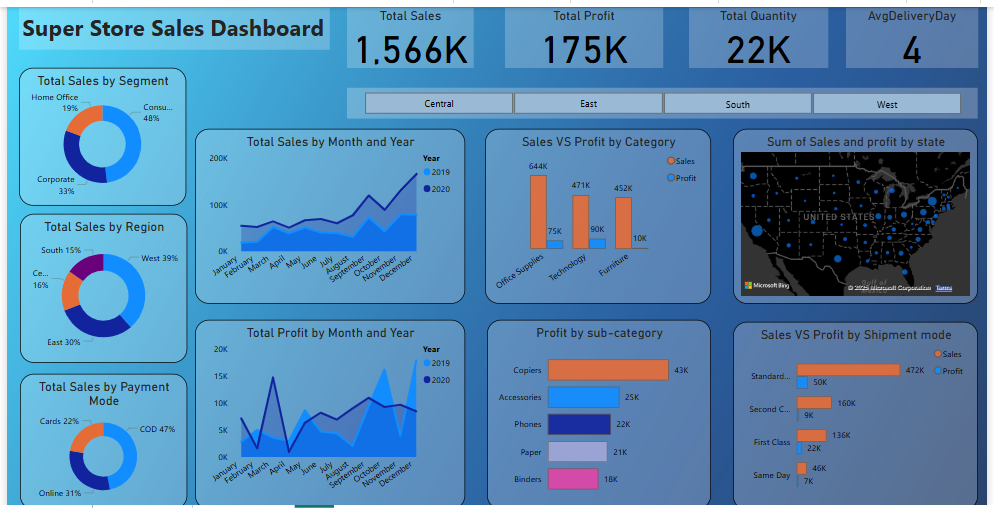

The dashboard page shown, as its layout file describes it:
{"tool":"powerbi","page":{"name":"Dashboard","canvas":[1400,735],"ordinal":0},"visuals":[{"type":"clusteredColumnChart","title":"Sales VS Profit by Category","fields":{"Category":["SuperStore_Sales_Dataset.Category"],"Y":["Sum(SuperStore_Sales_Dataset.Sales)","Sum(SuperStore_Sales_Dataset.Profit)"]},"box":[683.3,191.7,323.3,250],"z":0},{"type":"clusteredBarChart","title":"Profit by sub-category","fields":{"Category":["SuperStore_Sales_Dataset.Sub-Category"],"Y":["Sum(SuperStore_Sales_Dataset.Profit)"]},"box":[685.7,464.3,320,271.4],"z":1000},{"type":"clusteredBarChart","title":"Sales VS Profit by Shipment mode","fields":{"Category":["SuperStore_Sales_Dataset.Ship Mode"],"Y":["Sum(SuperStore_Sales_Dataset.Sales)","Sum(SuperStore_Sales_Dataset.Profit)"]},"box":[1037.1,467.1,350,268.6],"z":2000},{"type":"areaChart","title":"Total Sales by Month and Year","fields":{"Y":["Sum(SuperStore_Sales_Dataset.Sales)"],"Category":["SuperStore_Sales_Dataset.Order Date.Variation.Date Hierarchy.Month"],"Series":["SuperStore_Sales_Dataset.Order Date.Variation.Date Hierarchy.Year"]},"box":[268.6,191.4,385.7,250],"z":3000},{"type":"areaChart","title":"Total Profit by Month and Year","fields":{"Y":["Sum(SuperStore_Sales_Dataset.Profit)"],"Category":["SuperStore_Sales_Dataset.Order Date.Variation.Date Hierarchy.Month"],"Series":["SuperStore_Sales_Dataset.Order Date.Variation.Date Hierarchy.Year"]},"box":[268.6,464.3,385.7,271.4],"z":4000},{"type":"map","title":"Sum of Sales and profit by state","fields":{"Category":["SuperStore_Sales_Dataset.State"],"Size":["Sum(SuperStore_Sales_Dataset.Sales)"]},"box":[1037.1,191.4,350,250],"z":5000},{"type":"donutChart","title":"Total Sales by Payment Mode","fields":{"Category":["SuperStore_Sales_Dataset.Payment Mode"],"Y":["Sum(SuperStore_Sales_Dataset.Profit)"]},"box":[18.6,541.4,238.6,194.3],"z":6000},{"type":"donutChart","title":"Total Sales by Region","fields":{"Category":["SuperStore_Sales_Dataset.Region"],"Y":["Sum(SuperStore_Sales_Dataset.Profit)"]},"box":[18.6,312.9,238.6,212.9],"z":7000},{"type":"donutChart","title":"Total Sales by Segment","fields":{"Category":["SuperStore_Sales_Dataset.Segment"],"Y":["Sum(SuperStore_Sales_Dataset.Sales)"]},"box":[17.1,104.3,238.6,197.1],"z":8000},{"type":"card","title":"Total Sales","fields":{"Values":["Sum(SuperStore_Sales_Dataset.Sales)"]},"box":[485.7,18.6,181.4,85.7],"z":9000},{"type":"textbox","box":[17.1,18.6,444.3,60],"z":10000},{"type":"card","title":"Total Profit","fields":{"Values":["Sum(SuperStore_Sales_Dataset.Profit)"]},"box":[711.4,18.6,225.7,85.7],"z":11000},{"type":"card","title":"Total Quantity","fields":{"Values":["Sum(SuperStore_Sales_Dataset.Quantity)"]},"box":[974.3,18.6,198.6,85.7],"z":12000},{"type":"card","title":"AvgDeliveryDay","fields":{"Values":["Avg(SuperStore_Sales_Dataset.AvgDelivery)"]},"box":[1198.6,18.6,188.6,85.7],"z":13000},{"type":"slicer","fields":{"Values":["SuperStore_Sales_Dataset.Region"]},"box":[486,128,901,45],"z":14000}]}

Visuals, with their boxes in screenshot pixels (x1, y1, x2, y2), scaled from the page's 1400x735 canvas onto the 994x508 screenshot:
"Sales VS Profit by Category" clusteredColumnChart: (left=485, top=132, right=715, bottom=305)
"Profit by sub-category" clusteredBarChart: (left=487, top=321, right=714, bottom=507)
"Sales VS Profit by Shipment mode" clusteredBarChart: (left=736, top=323, right=985, bottom=507)
"Total Sales by Month and Year" areaChart: (left=191, top=132, right=465, bottom=305)
"Total Profit by Month and Year" areaChart: (left=191, top=321, right=465, bottom=507)
"Sum of Sales and profit by state" map: (left=736, top=132, right=985, bottom=305)
"Total Sales by Payment Mode" donutChart: (left=13, top=374, right=183, bottom=507)
"Total Sales by Region" donutChart: (left=13, top=216, right=183, bottom=363)
"Total Sales by Segment" donutChart: (left=12, top=72, right=182, bottom=208)
"Total Sales" card: (left=345, top=13, right=474, bottom=72)
textbox: (left=12, top=13, right=328, bottom=54)
"Total Profit" card: (left=505, top=13, right=665, bottom=72)
"Total Quantity" card: (left=692, top=13, right=833, bottom=72)
"AvgDeliveryDay" card: (left=851, top=13, right=985, bottom=72)
slicer - SuperStore_Sales_Dataset.Region: (left=345, top=88, right=985, bottom=120)
